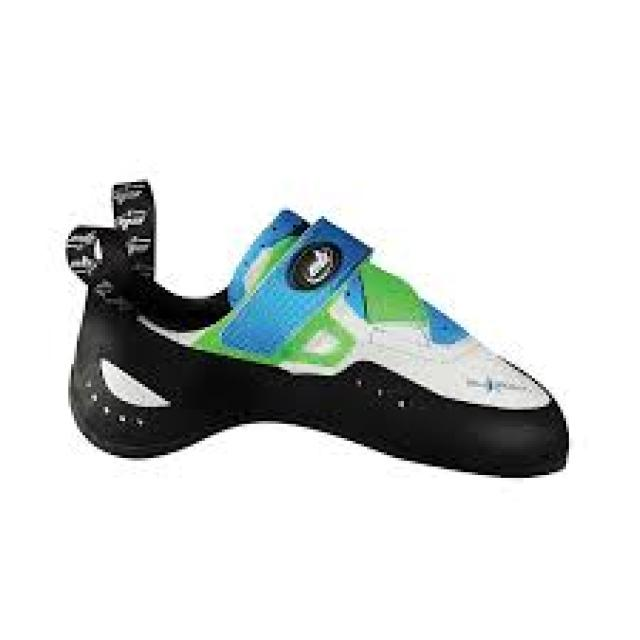climbing-shoes: (59, 175, 573, 481)
